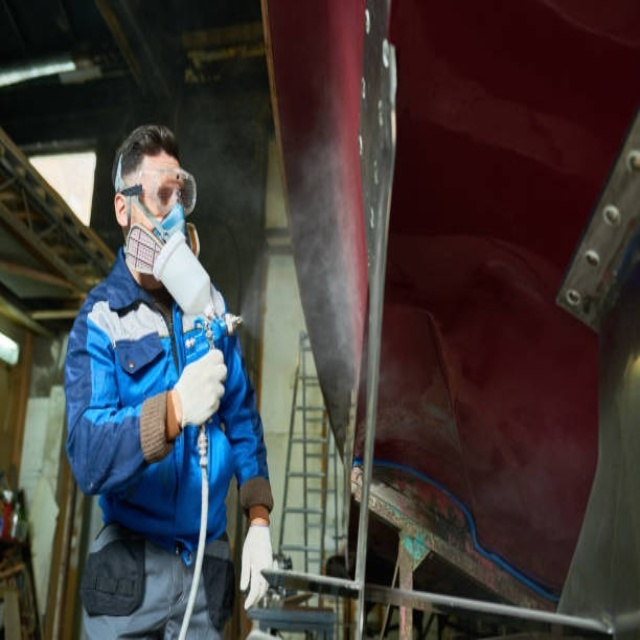Gafas: (115, 157, 198, 223)
Guantes: (172, 348, 227, 430), (239, 521, 274, 610)
Mascara: (124, 198, 203, 287)
